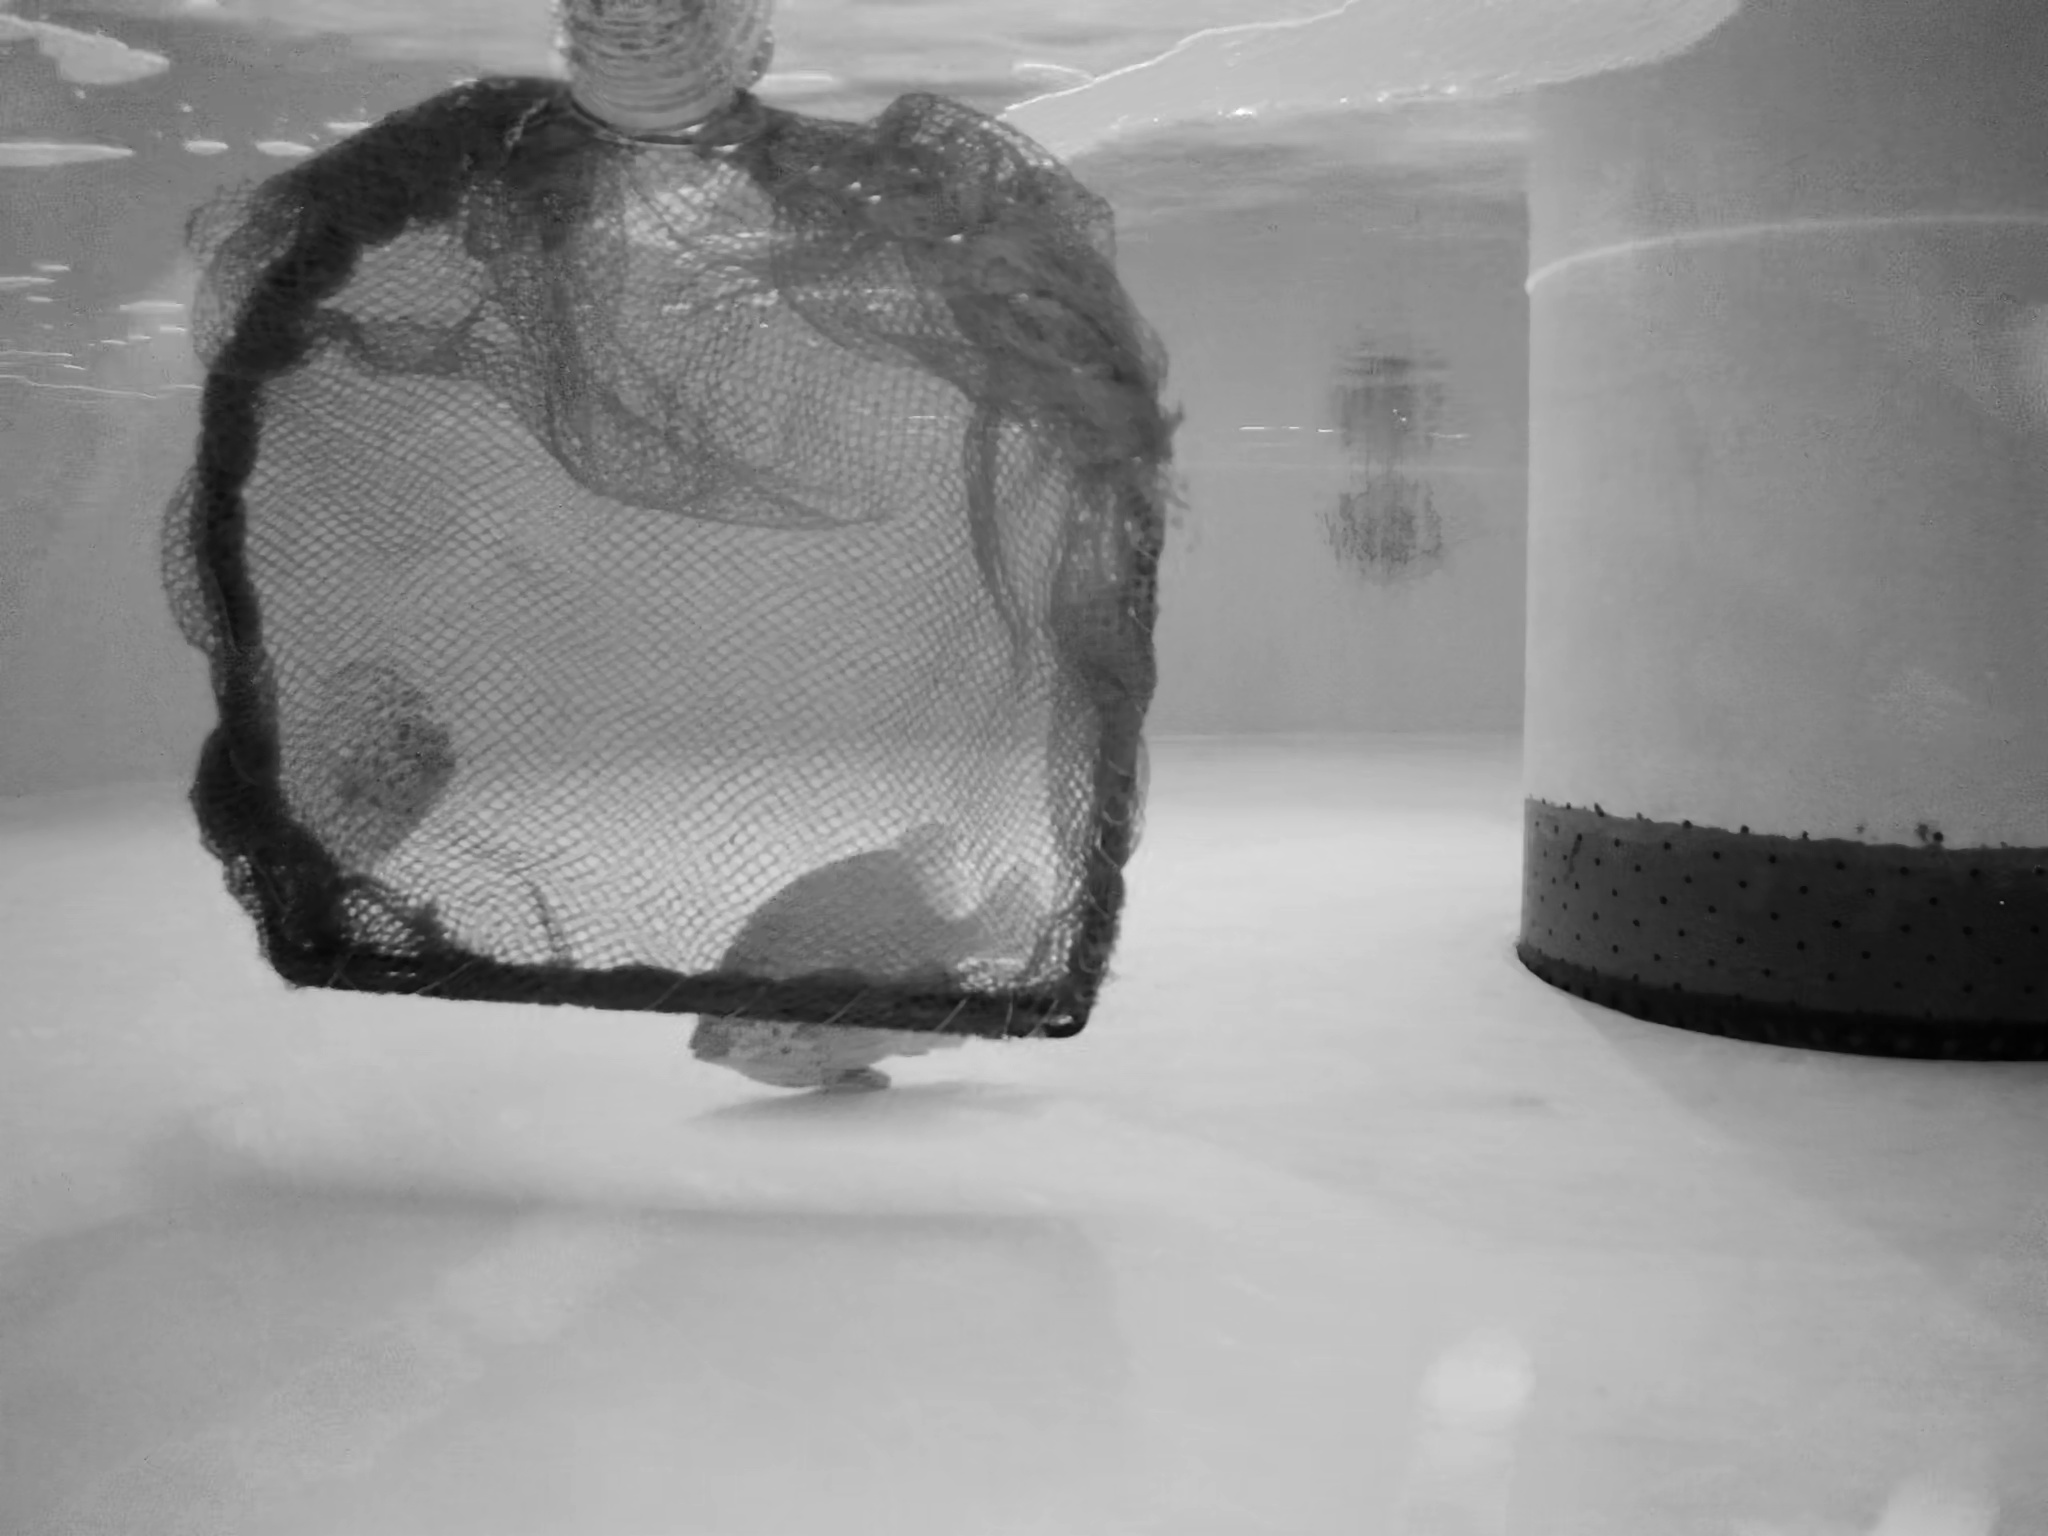fish: (676, 831, 1034, 1105), (250, 660, 445, 884)
